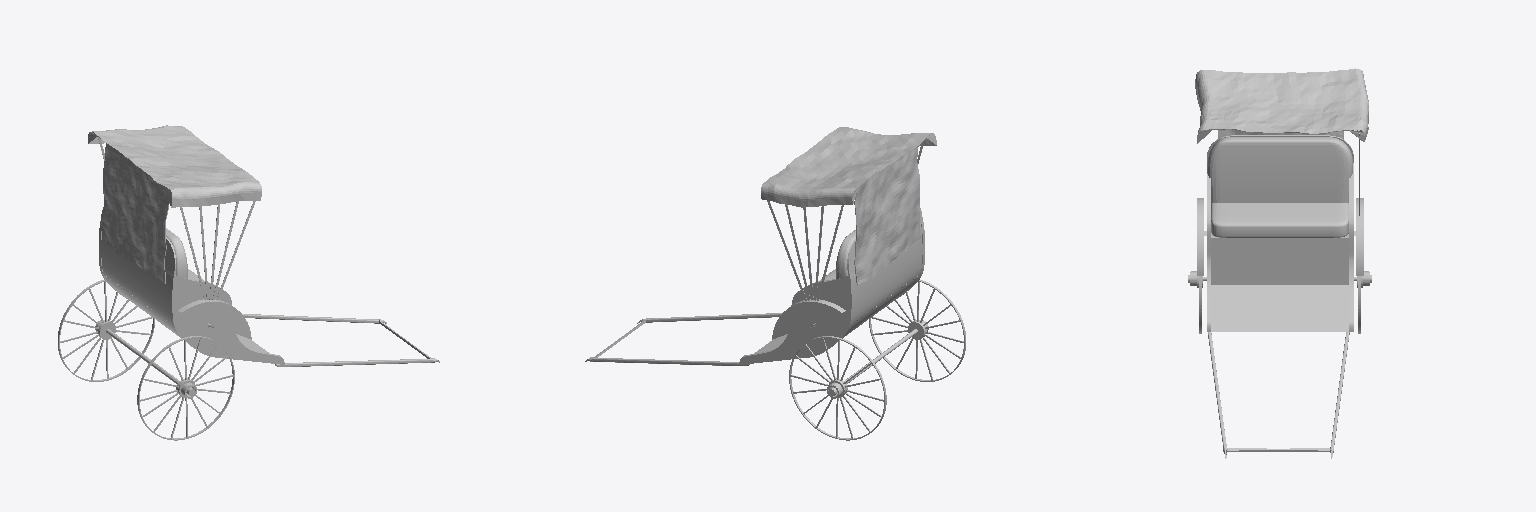
The model's file is Rickshaw N100518.obj.
The picture shows the model from 3 angles: view 1: azimuth 30°, elevation 25°; view 2: azimuth 150°, elevation 25°; view 3: azimuth 270°, elevation 25°; orthographic projection.
Parts seen in each view (by area): view 1: Line015, Box005, Shape1, Shape003, Arc001, Circle001, Box003, Box004, Circle004; view 2: Line015, Box005, Shape002, Shape003, Arc002, Circle004, Box004, Box003, Circle001; view 3: Line015, Box002, Rectangle002, Shape003, Box001, Shape002, Shape1, Arc002, Arc001.
Part boxes in pixels (x1,y1,x2,y2): Line015: (88,125,261,207); Box005: (102,144,169,283); Shape1: (170,274,284,364); Shape003: (101,227,269,353); Arc001: (178,299,251,339); Circle001: (137,336,234,440); Box003: (275,359,435,366); Box004: (242,314,378,323); Circle004: (58,280,154,381); Line015: (761,127,936,207); Box005: (854,146,920,284); Shape002: (739,274,853,364); Shape003: (754,224,922,353); Arc002: (772,299,845,339); Circle004: (789,336,886,440); Box004: (590,358,749,365); Box003: (646,313,781,322); Circle001: (869,280,965,381); Line015: (1195,68,1368,143); Box002: (1207,137,1352,203); Rectangle002: (1211,233,1348,284); Shape003: (1211,285,1348,331); Box001: (1211,203,1348,237); Shape002: (1349,163,1353,331); Shape1: (1207,174,1210,331); Arc002: (1356,198,1363,275); Arc001: (1197,198,1203,275).
Size of the model in its own units: 103 by 79.33 by 52.35.